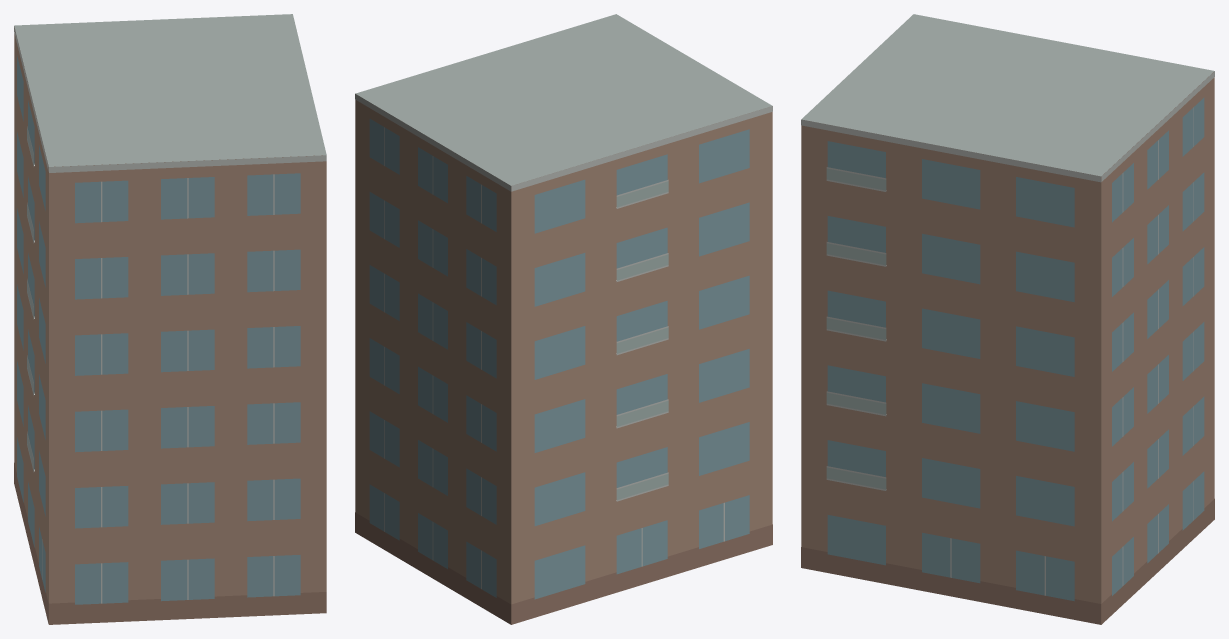
The model's file is survey-upis-32955967.glb.
3 renders of one model, left to right at view 1: azimuth 30°, elevation 25°; view 2: azimuth 150°, elevation 25°; view 3: azimuth 270°, elevation 25°, orthographic. The views are drawn at different scales.
Parts seen in each view (by area): view 1: survey-upis-32955967.tmp; view 2: survey-upis-32955967.tmp; view 3: survey-upis-32955967.tmp.
Part boxes in pixels (<box>): survey-upis-32955967.tmp: <box>14,14,326,624</box>; survey-upis-32955967.tmp: <box>355,14,772,624</box>; survey-upis-32955967.tmp: <box>801,14,1214,624</box>.
Bounding box in the file's own units: 14.22 × 18.3 × 15.31.
